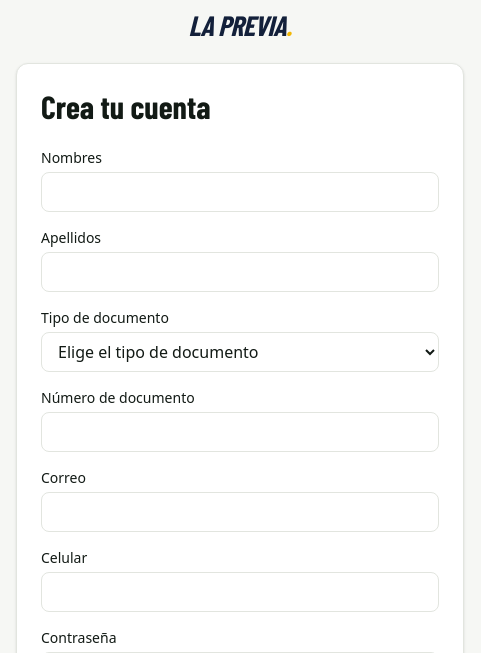
FormularioRegistro: filtros al escribir › con un error visible, cambiar el tipo actualiza el mensaje del documento
The image size is (481, 653).
Select "CE" in the dropdown labelled "Tipo de documento" at x=240, y=352, box [41,332,439,372]
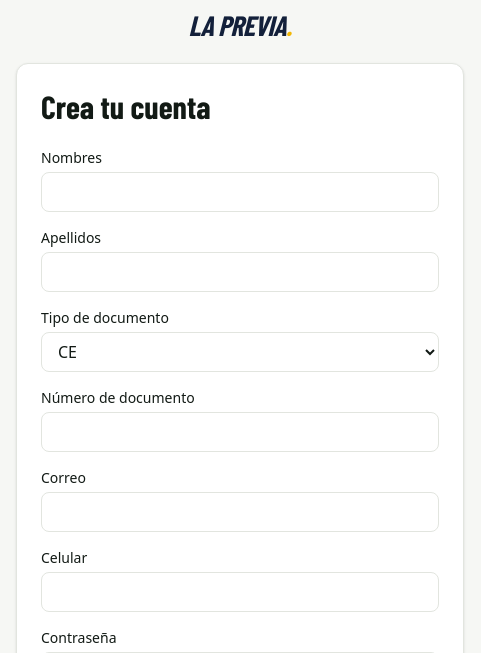
Type "AB12" into the field labelled "Número de documento".
click(240, 432); type("AB12")  # box [41,412,439,452]
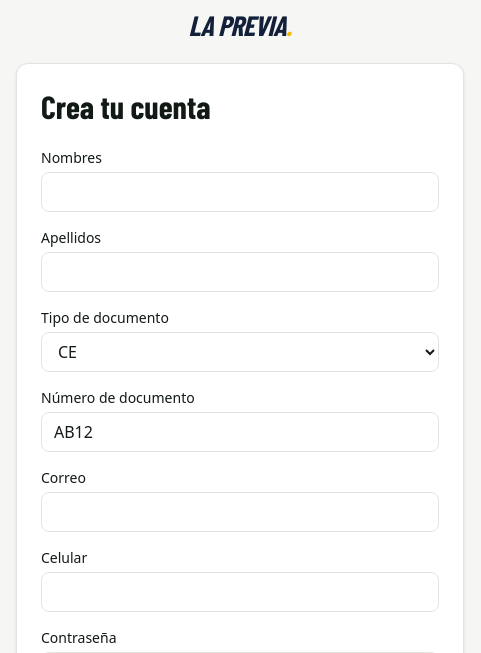
Leave the field labelled "Número de documento", box [41,412,439,452]
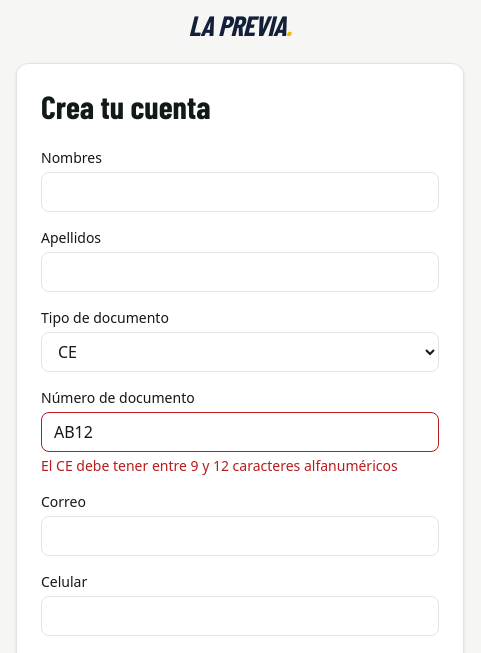
Expected: the text "El CE debe tener entre 9 y 12 caracteres alfanuméricos" is shown, [41,456,439,476]
Select "DNI" in the dropdown labelled "Tipo de documento" at x=240, y=352, box [41,332,439,372]
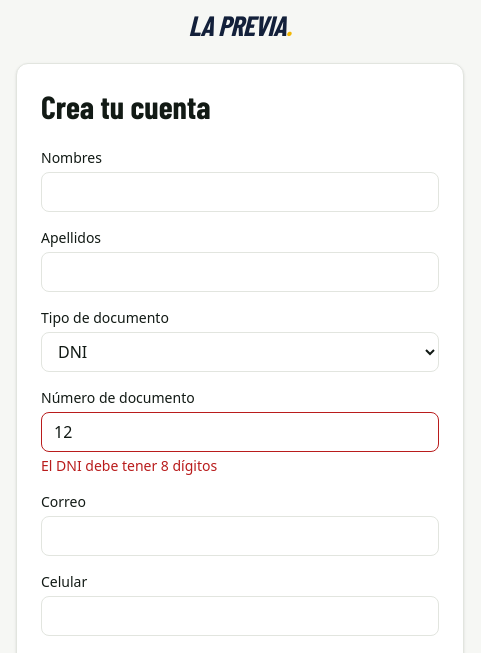
Expected: the field labelled "Número de documento" holds "12", [41,412,439,452]
Expected: the text "El DNI debe tener 8 dígitos" is shown, [41,456,217,475]
